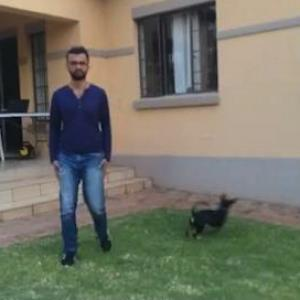follow: (47, 48, 117, 262)
